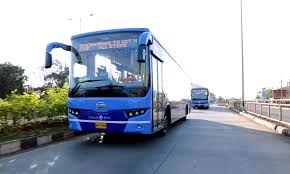Chigari: (46, 26, 191, 140), (190, 87, 211, 111)
